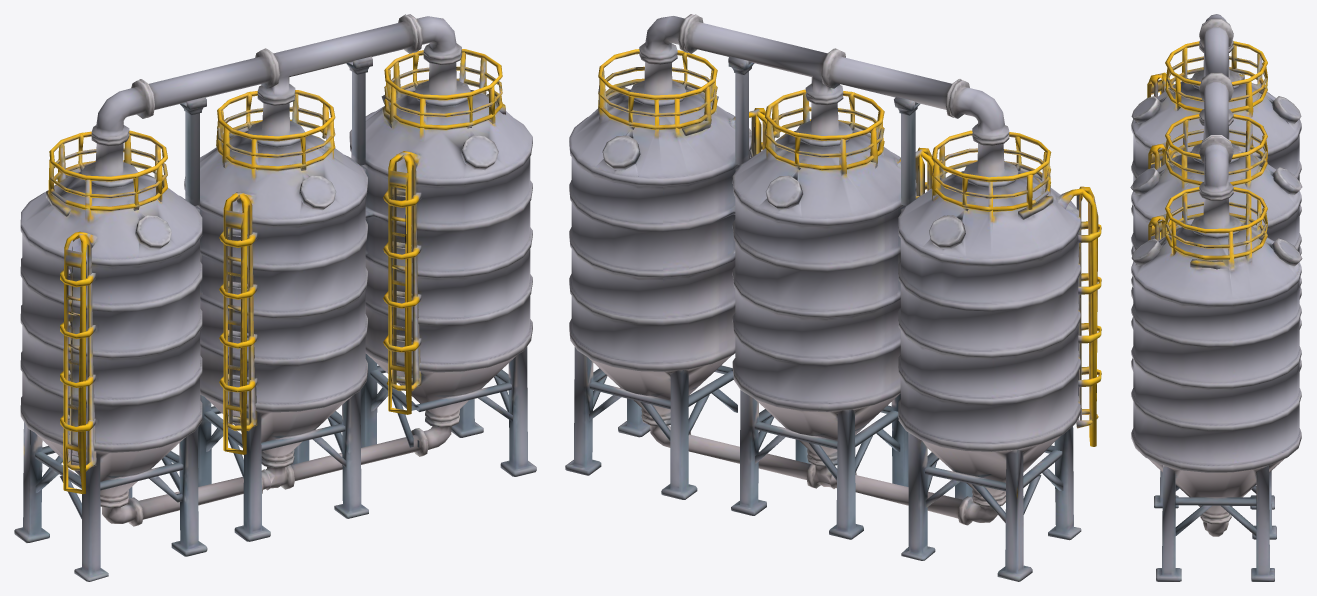
File: silos.glb
3 views of the same model, side by side, from view 1: azimuth 30°, elevation 25°; view 2: azimuth 150°, elevation 25°; view 3: azimuth 270°, elevation 25° (orthographic). The views are drawn at different scales.
Visible parts, largest first — view 1: tripo_node_5570bcc3-7a28-4cbe-b735-60b06e9b15d6; view 2: tripo_node_5570bcc3-7a28-4cbe-b735-60b06e9b15d6; view 3: tripo_node_5570bcc3-7a28-4cbe-b735-60b06e9b15d6.
Boxes of the visible parts, <box> form: tripo_node_5570bcc3-7a28-4cbe-b735-60b06e9b15d6: <box>14,14,536,581</box>; tripo_node_5570bcc3-7a28-4cbe-b735-60b06e9b15d6: <box>565,14,1101,581</box>; tripo_node_5570bcc3-7a28-4cbe-b735-60b06e9b15d6: <box>1130,14,1302,581</box>.
Size of the model in its own units: 0.9778 by 0.8706 by 0.3348.
1 material, 1 textured.
